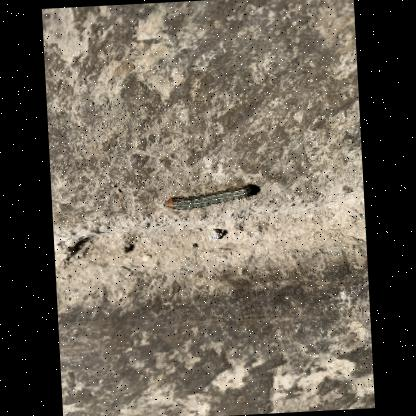Fall Armyworm Larvae: (163, 183, 254, 213)
